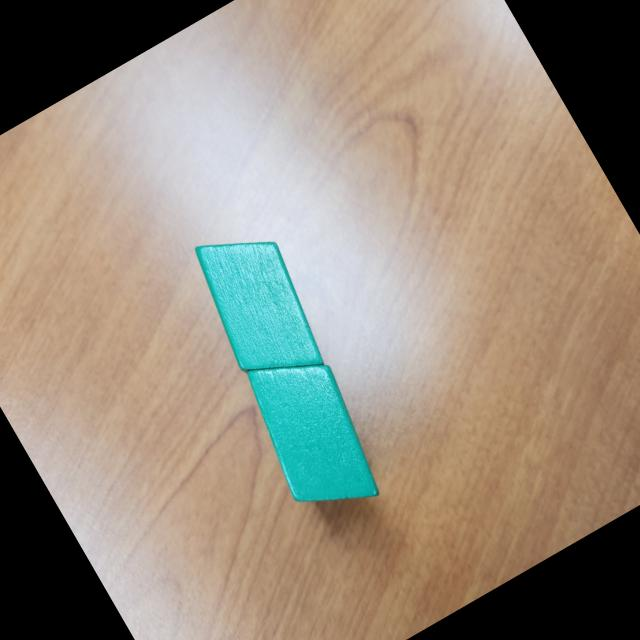green: (226, 332, 402, 534), (174, 209, 342, 403)
